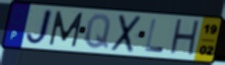H: (168, 18, 202, 59)
J: (23, 8, 55, 48)
L: (144, 18, 166, 54)
M: (48, 10, 85, 49)
Q: (83, 13, 112, 51)
X: (109, 14, 144, 55)
